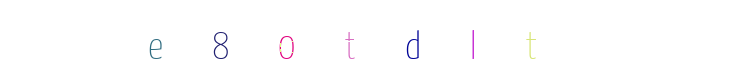0: (257, 0, 337, 80)
8: (250, 0, 330, 80)
D: (309, 0, 389, 80)
E: (184, 0, 264, 80)
L: (327, 0, 407, 80)
T: (301, 0, 381, 80), (459, 0, 539, 80)
